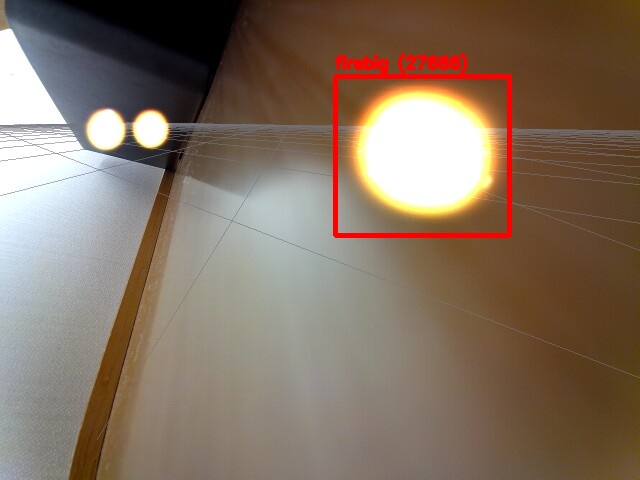firebig: (335, 76, 509, 235)
